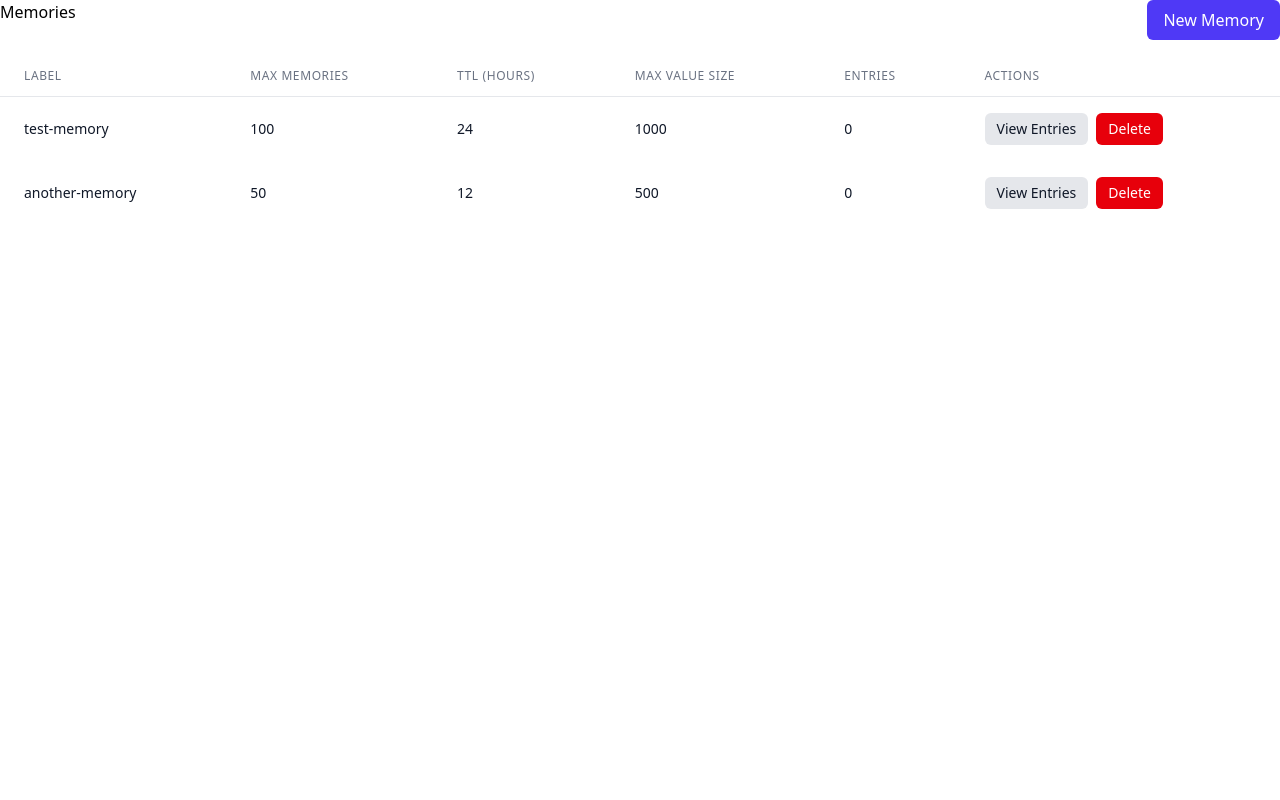
MemoriesSection › create form shows validation error when label is empty
This screenshot has width=1280, height=800.
Expected: the text "test-memory" is shown, [0,96,226,161]
Click the button "New Memory" at (1214, 20), box [1148,0,1279,40]
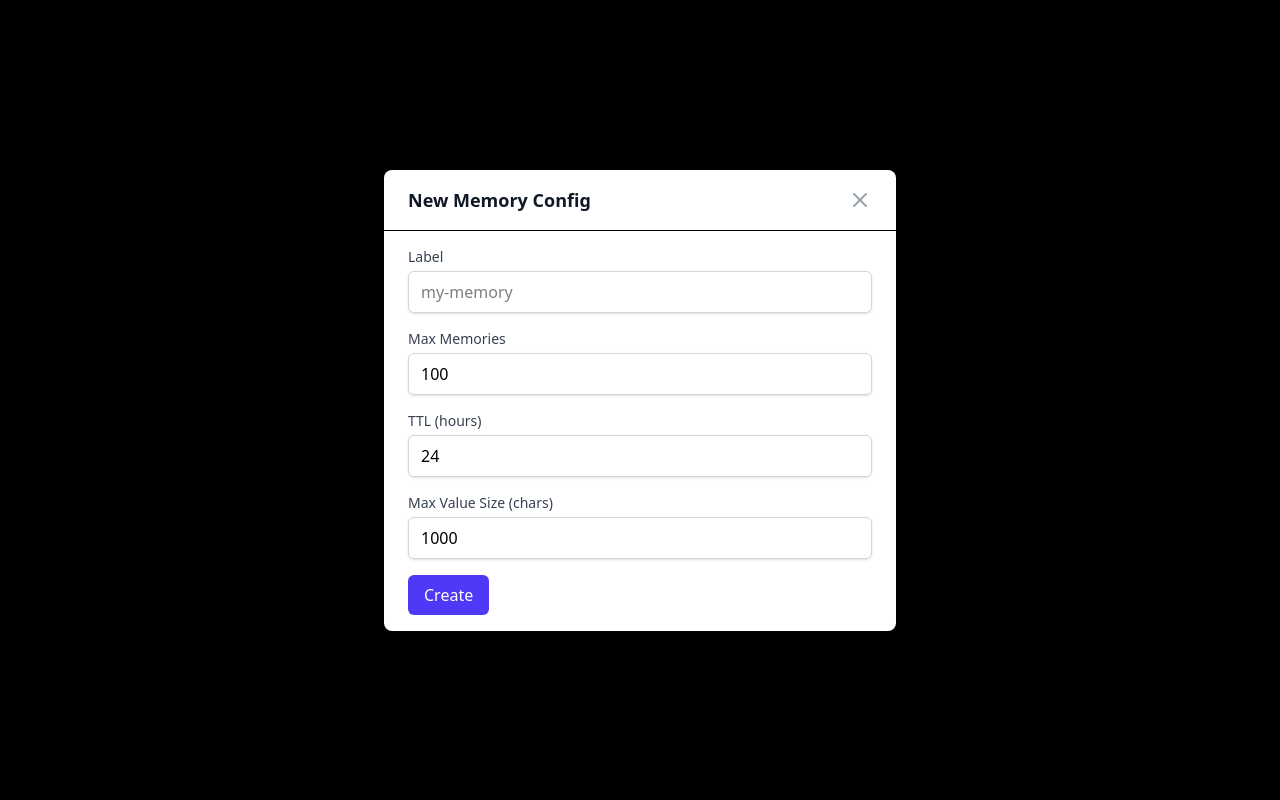
Click the button "Create" at (449, 594), box [408,574,489,614]
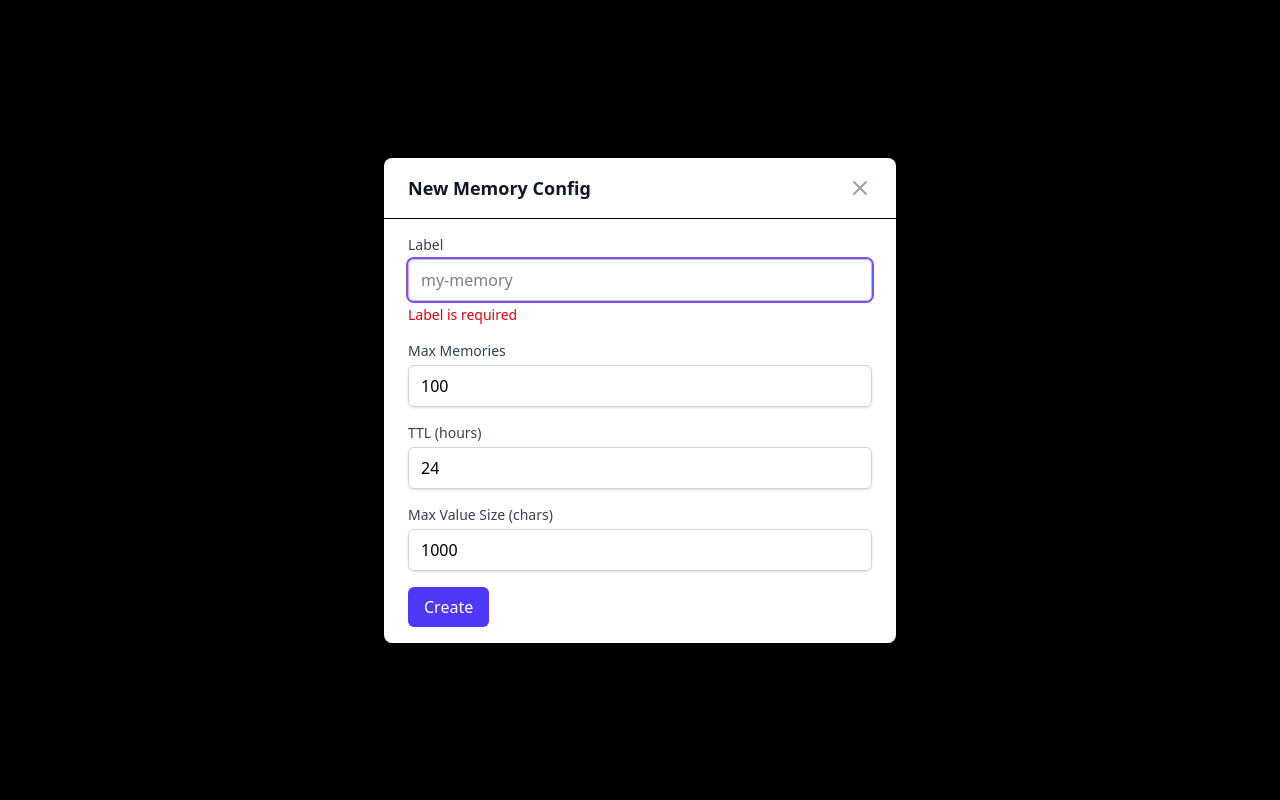
Expected: the text "Label is required" is shown, [408,304,517,324]
